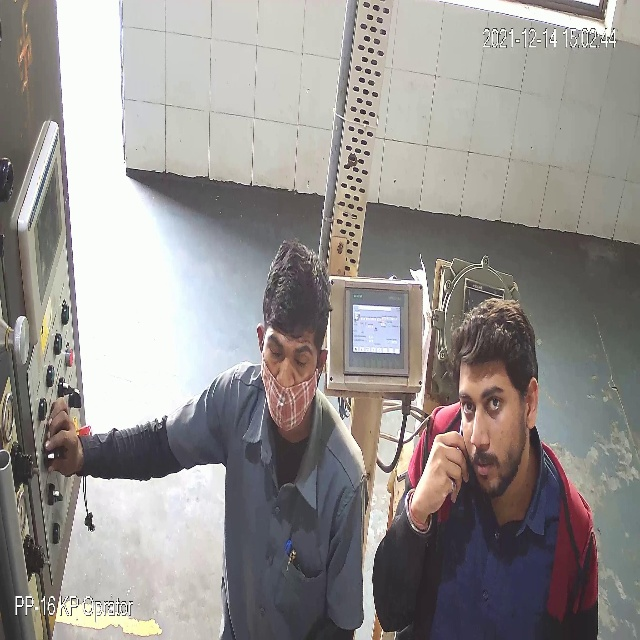Sin_gafas: (459, 391, 526, 426), (265, 331, 318, 373)
Sin_mascara: (461, 424, 528, 503)
